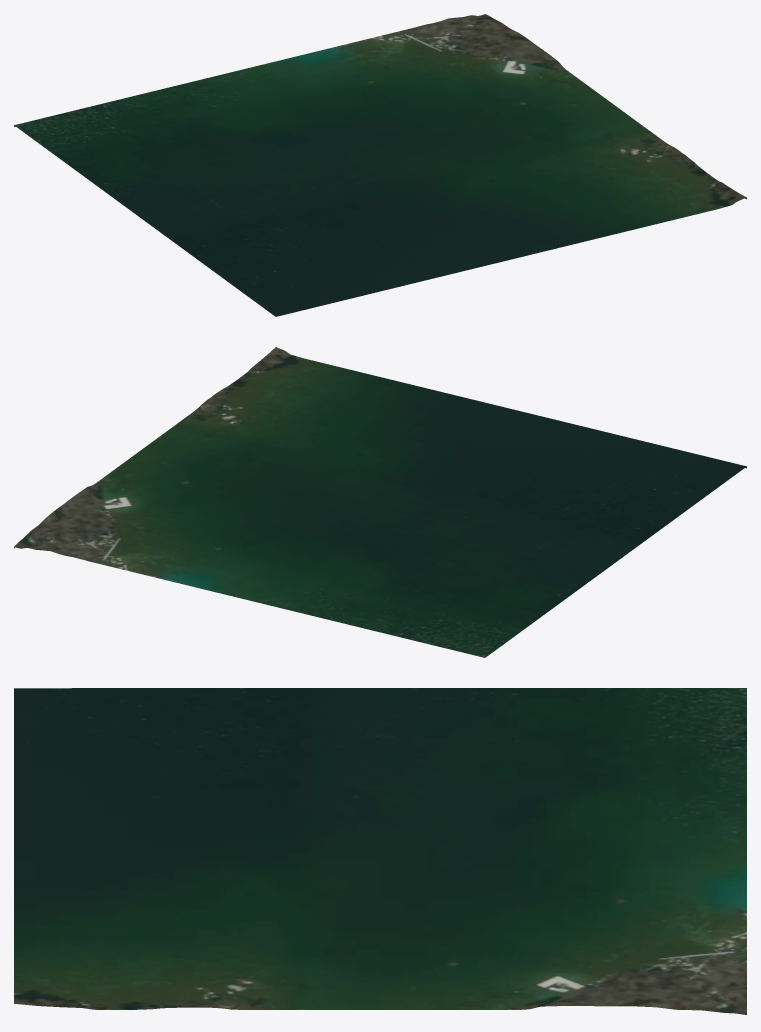
The picture shows the model from 3 angles, top to bottom: view 1: azimuth 30°, elevation 25°; view 2: azimuth 150°, elevation 25°; view 3: azimuth 270°, elevation 25°; orthographic projection. The views are drawn at different scales.
Bounding box in the file's own units: 250 × 5.34 × 241.
1 material, 1 textured.
